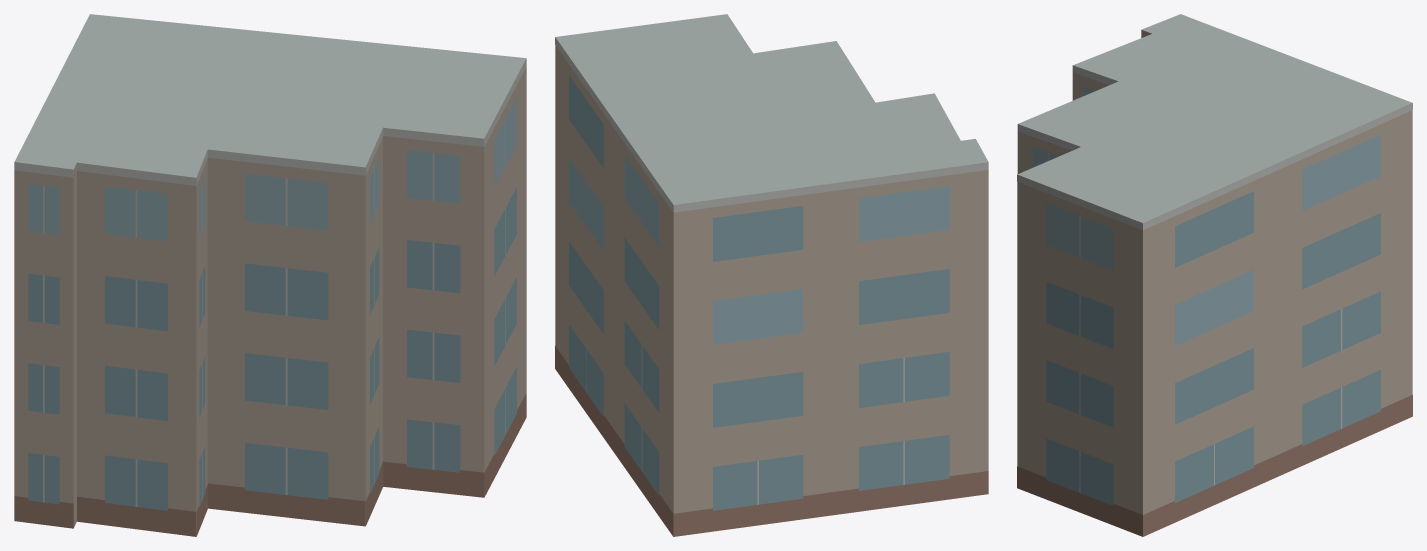
Rendered from survey-upis-32513922.glb.
The picture shows the model from 3 angles, left to right: view 1: azimuth 30°, elevation 25°; view 2: azimuth 150°, elevation 25°; view 3: azimuth 270°, elevation 25°; orthographic projection. The views are drawn at different scales.
Visible parts, largest first — view 1: survey-upis-32513922.tmp; view 2: survey-upis-32513922.tmp; view 3: survey-upis-32513922.tmp.
Boxes of the visible parts, x1,y1,x2,y2 form: survey-upis-32513922.tmp: (14,14,526,536); survey-upis-32513922.tmp: (555,14,988,536); survey-upis-32513922.tmp: (1017,14,1412,536).
Bounding box in the file's own units: 15.24 × 10.65 × 12.18.
